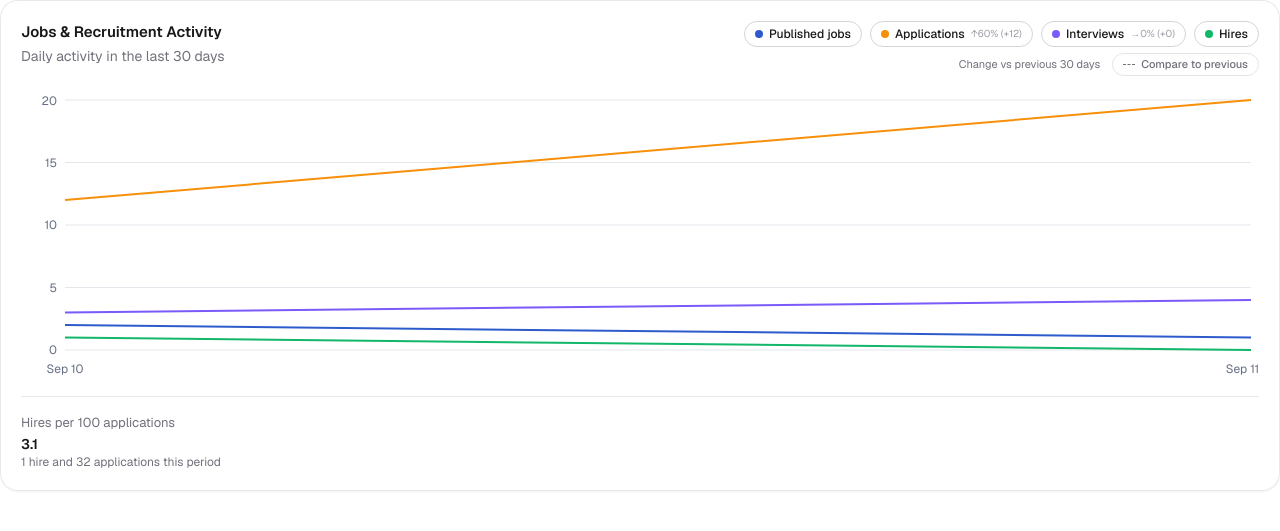
Test: TrendChart › compare to previous › draws the previous period when turned on and remembers the choice
The image size is (1280, 531).
Click the button "Compare to previous" at (1186, 64), box [1112,53,1259,76]
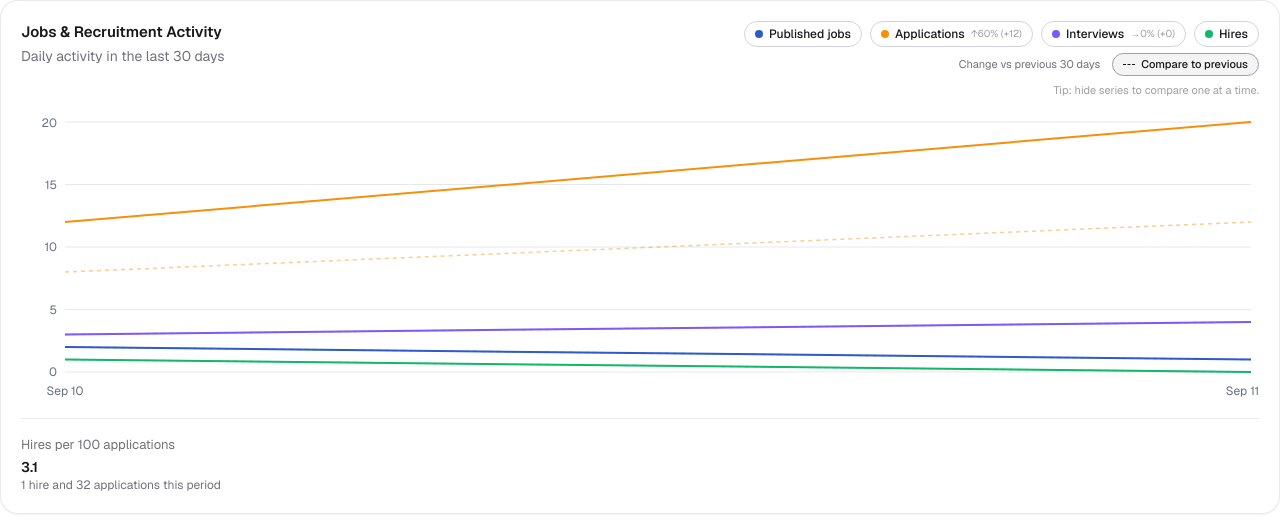
Check: the element with class "trend-previous-line" is shown, box [65,347,1251,360]
Check: the text "Tip: hide series to compare one at a time." is shown, box [1054,82,1259,98]
